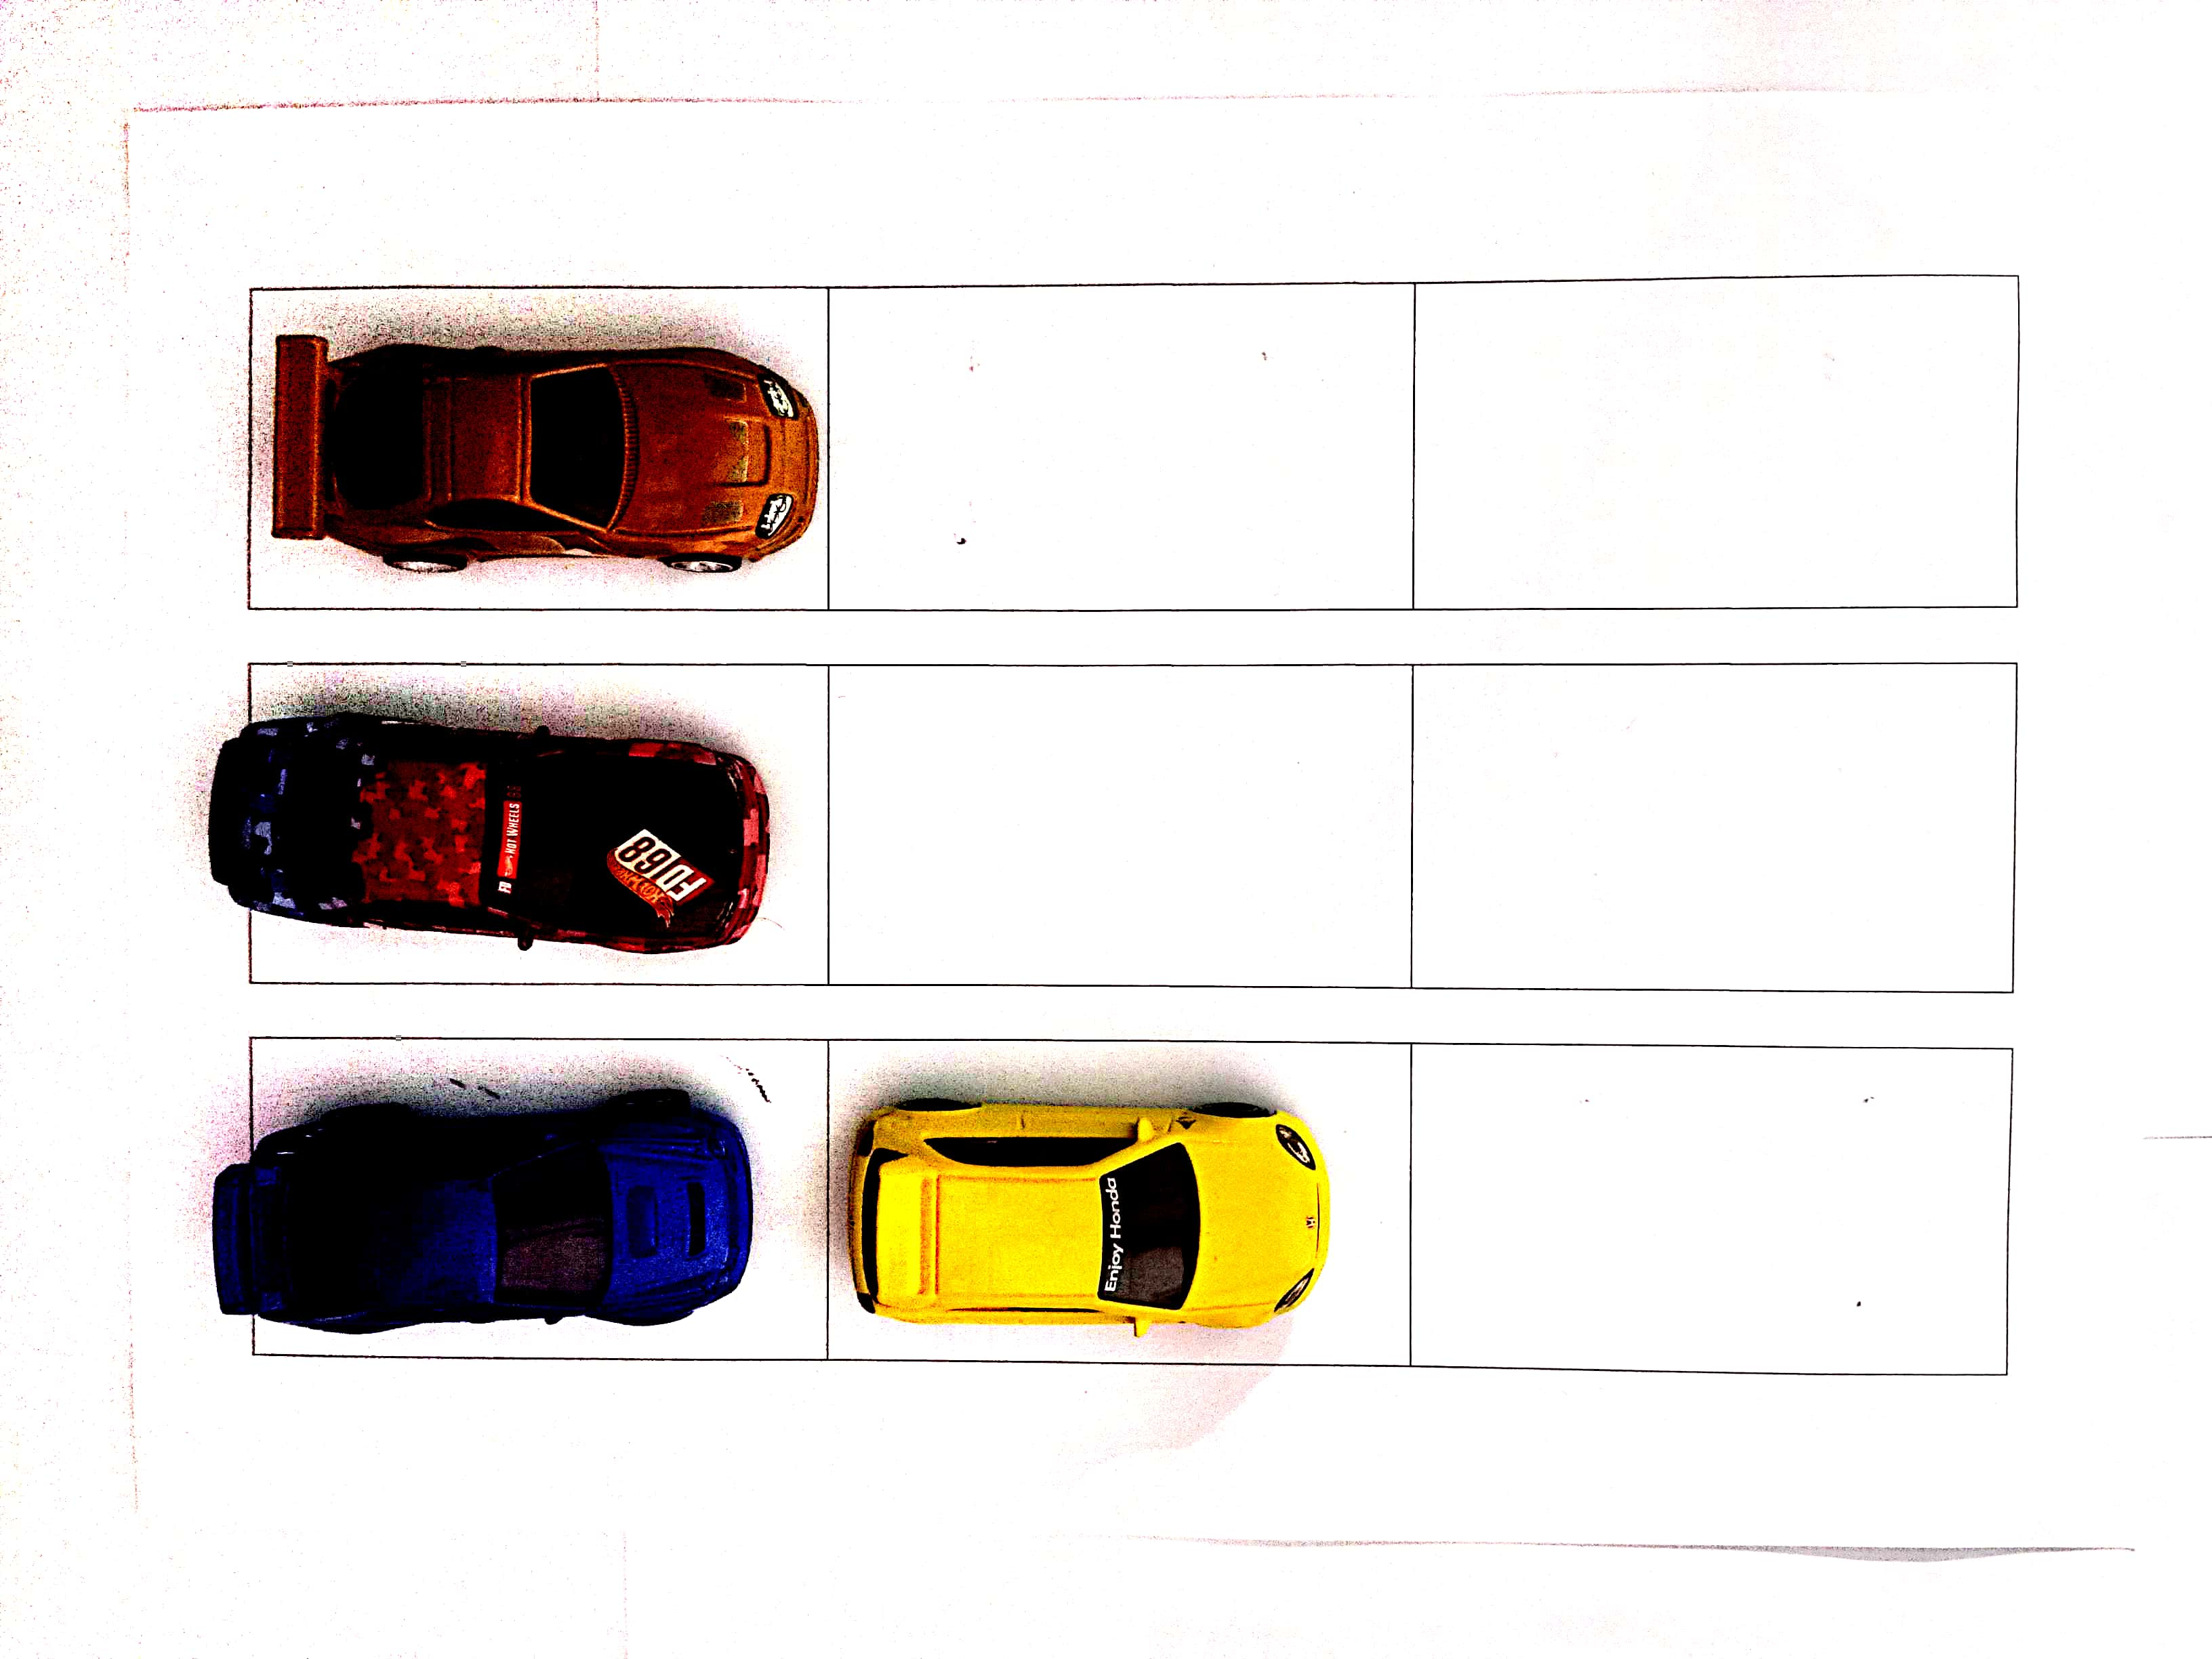Busy: (254, 1033, 827, 1358), (253, 288, 822, 610), (254, 664, 833, 981), (827, 1046, 1409, 1358)
Free: (1407, 272, 2013, 599), (1409, 669, 2017, 990), (827, 288, 1409, 606), (1413, 1046, 2006, 1356), (833, 664, 1413, 979)
